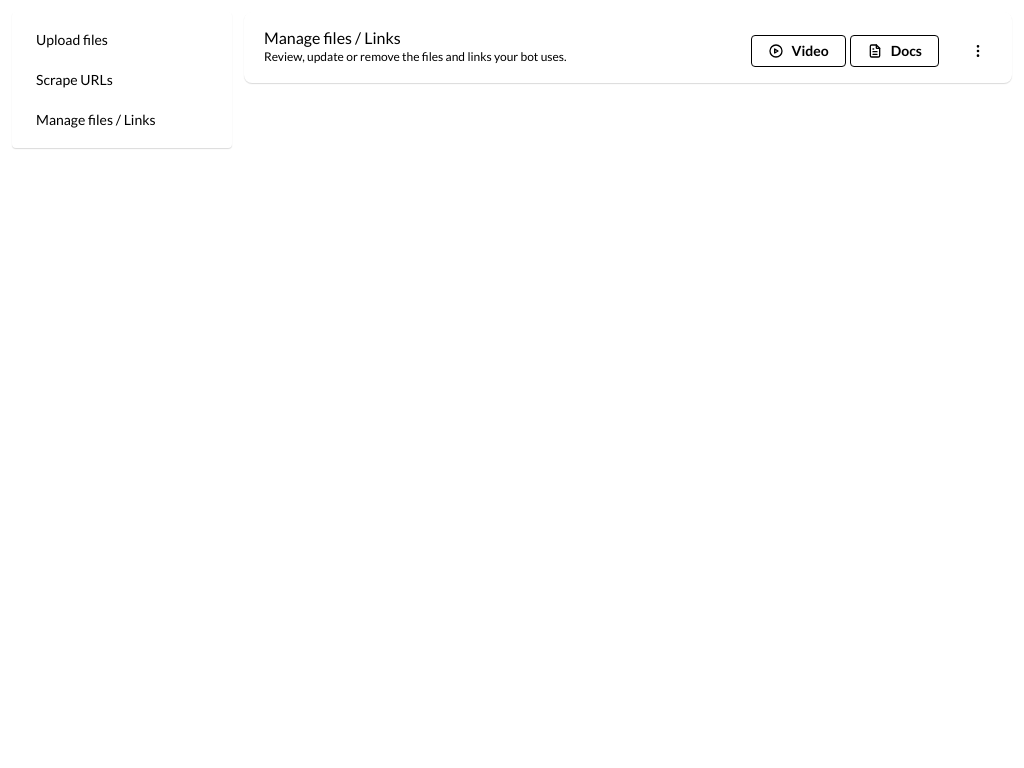
Test: KnowledgeBaseScreen › opens the change history as a read-only log
Expected: the dialog "History" is not shown
Click the button named "More knowledge base actions": (978, 51) [964,37,992,65]
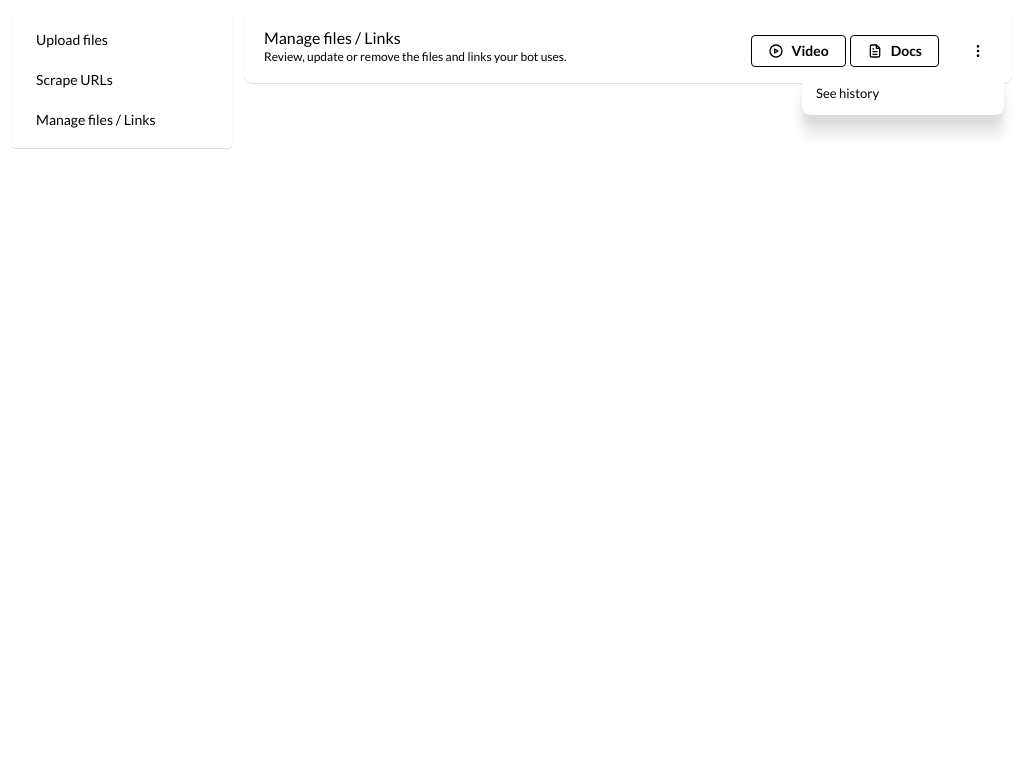
Click the menu item "See history": (903, 93) [808,77,998,109]
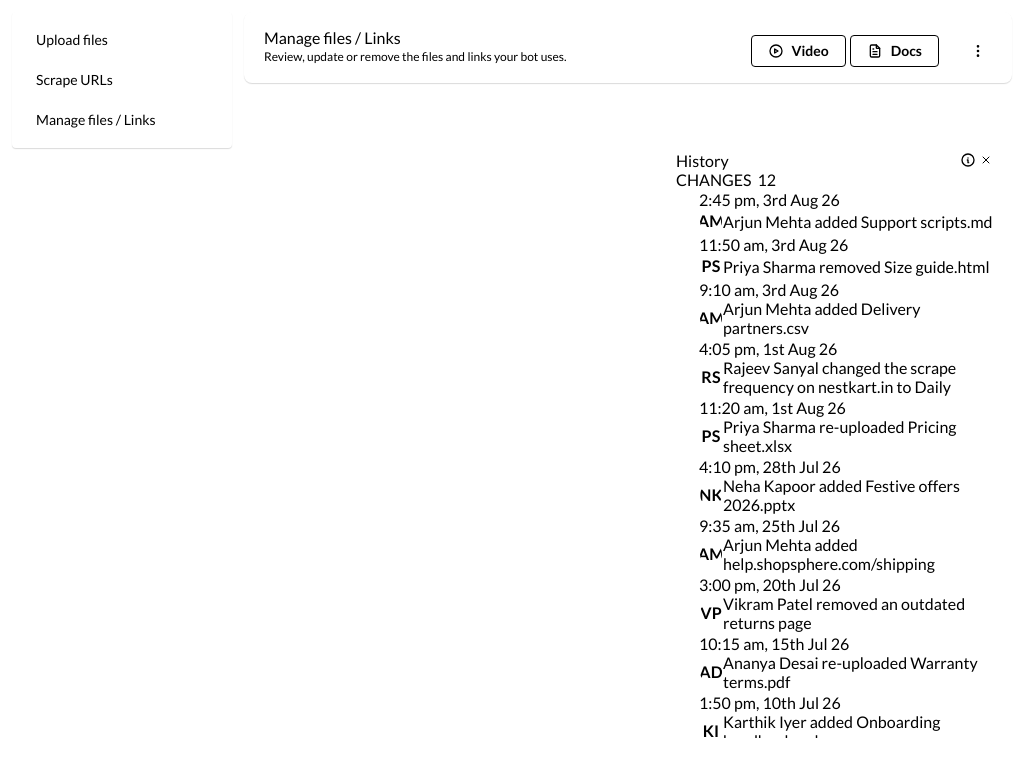
Expected: the text "added Support scripts.md" is shown, [811,212,992,230]
Expected: the text "removed Size guide.html" is shown, [816,256,990,276]
Click the button named "Close history": (986, 160) [976,150,996,170]
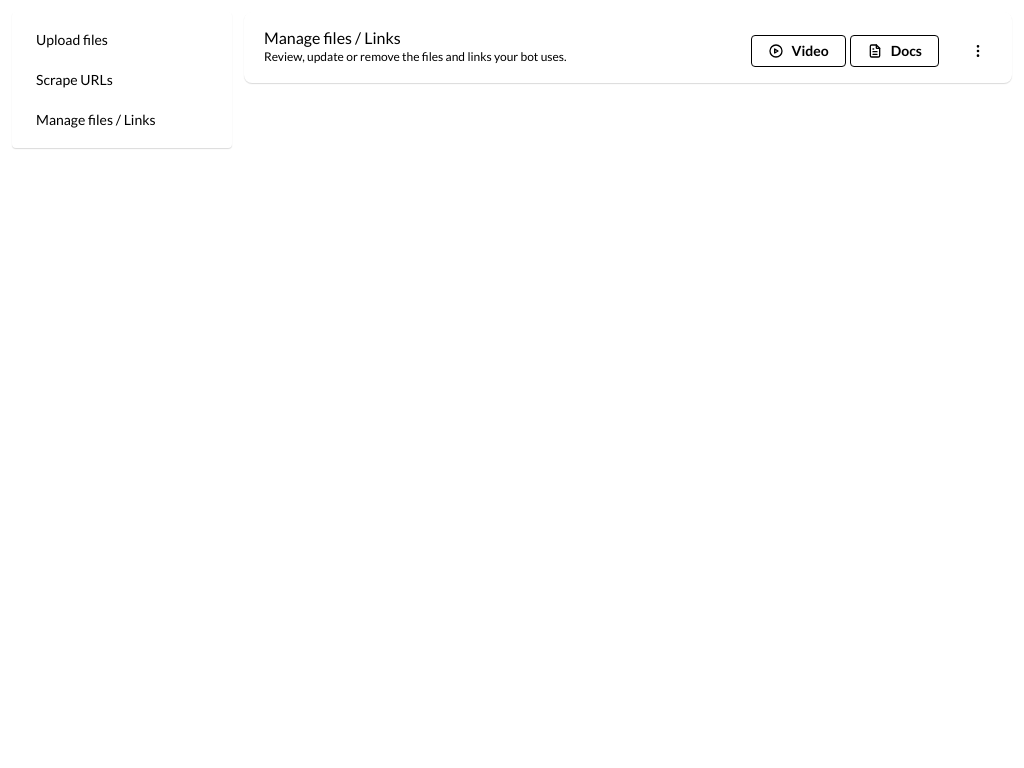
Expected: the heading "History" is gone
